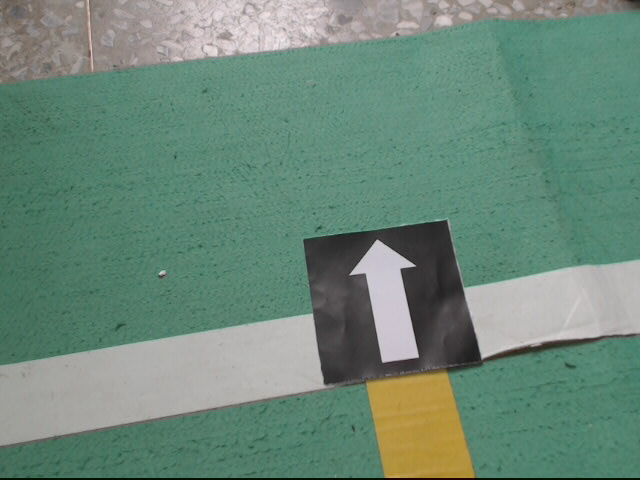straight: (303, 218, 484, 385)
